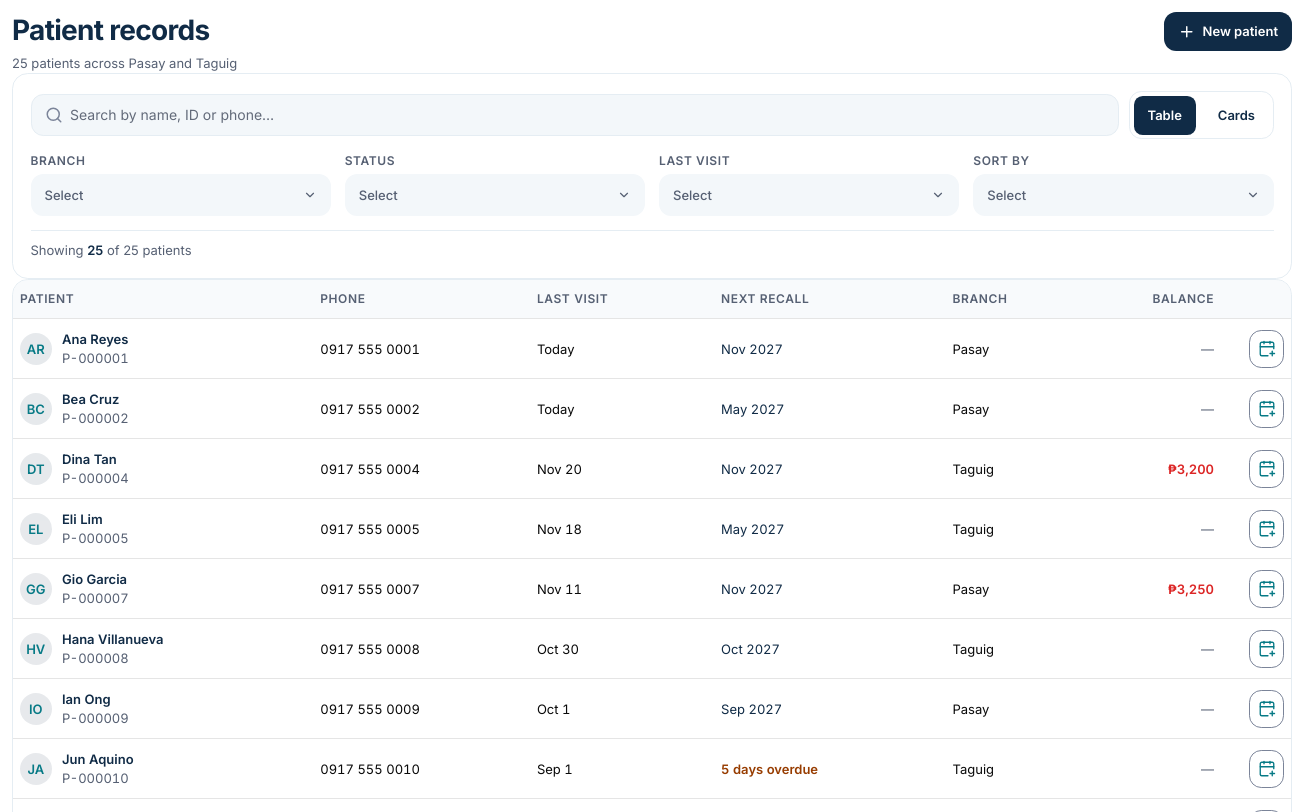
Test case: Patient records header and filter bar › Status can combine Overdue recall, Due today and Has balance (any of them)
Click the button with aria-label "Status".
click(378, 195)  # box [345,174,645,216]
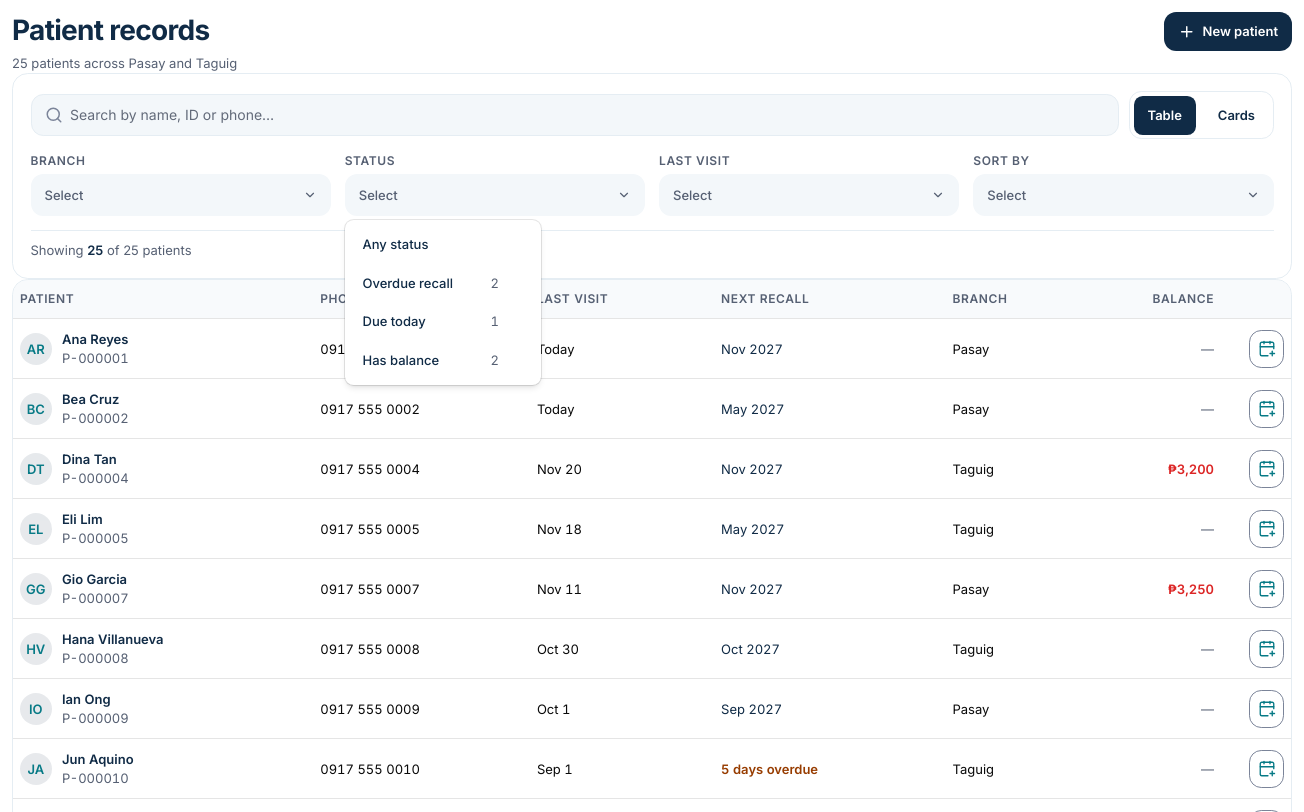
Click the menu item "Overdue recall 2".
click(431, 283)  # box [362,275,499,291]
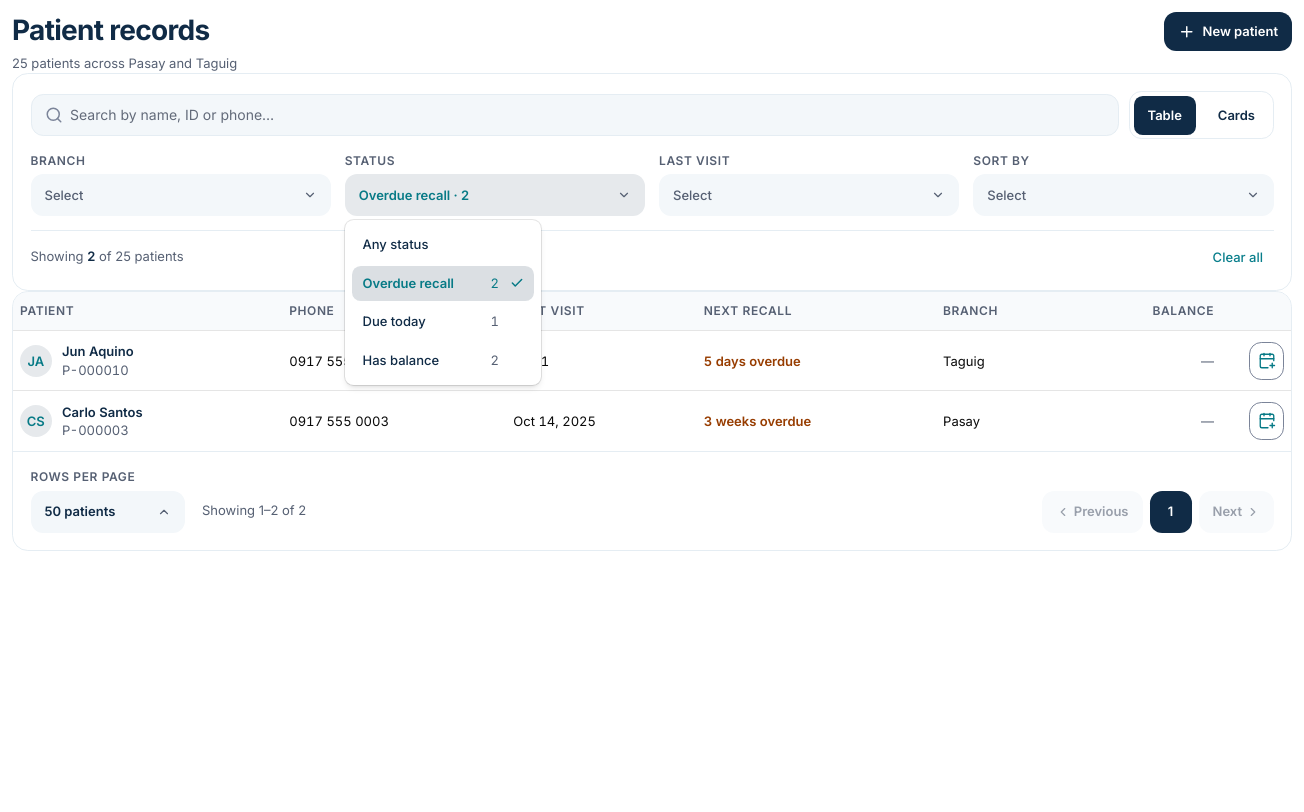
Expected: the button "Overdue recall · 2" is shown, [345,174,645,216]
Click the menu item "Has balance 2".
click(431, 360)  # box [362,352,499,368]
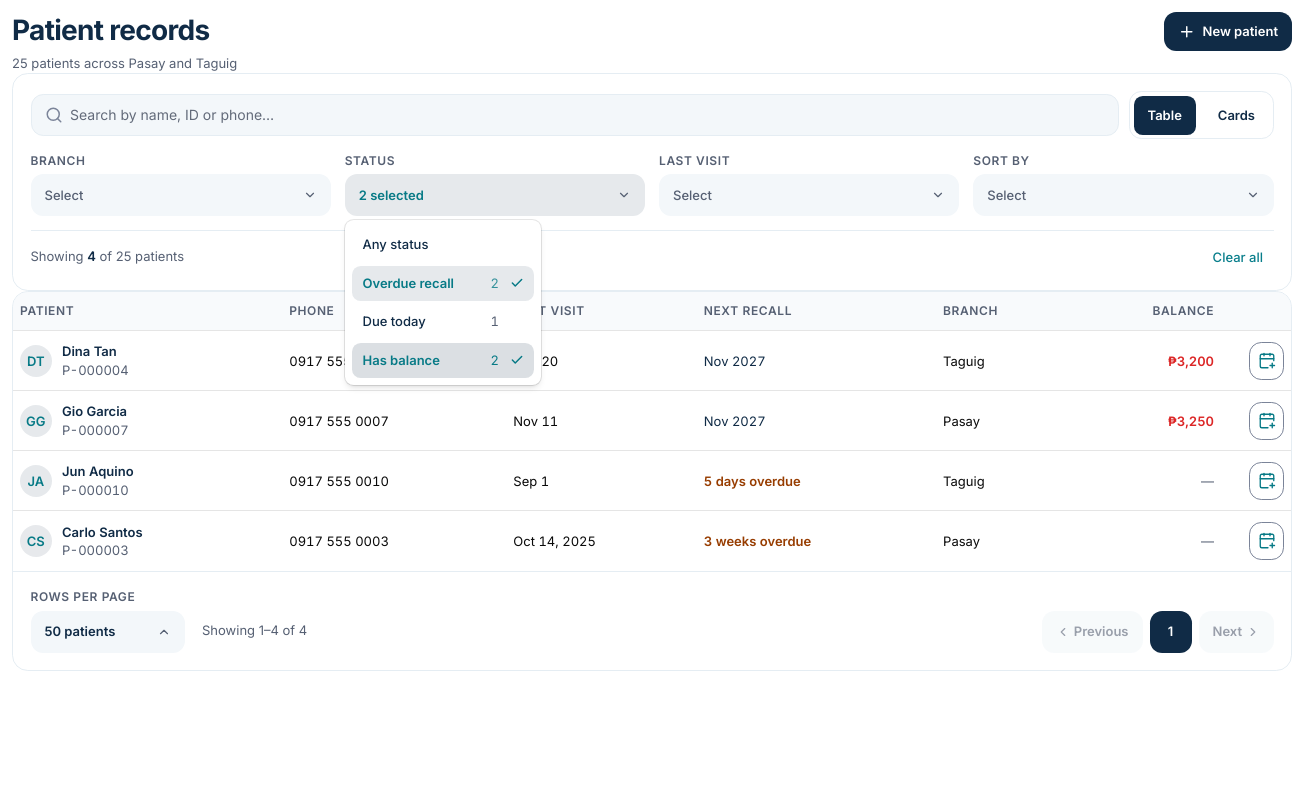
Expected: the button "2 selected" is shown, [345,174,645,216]
Click the menu item "Due today 1".
click(394, 321)  # box [362,313,499,329]
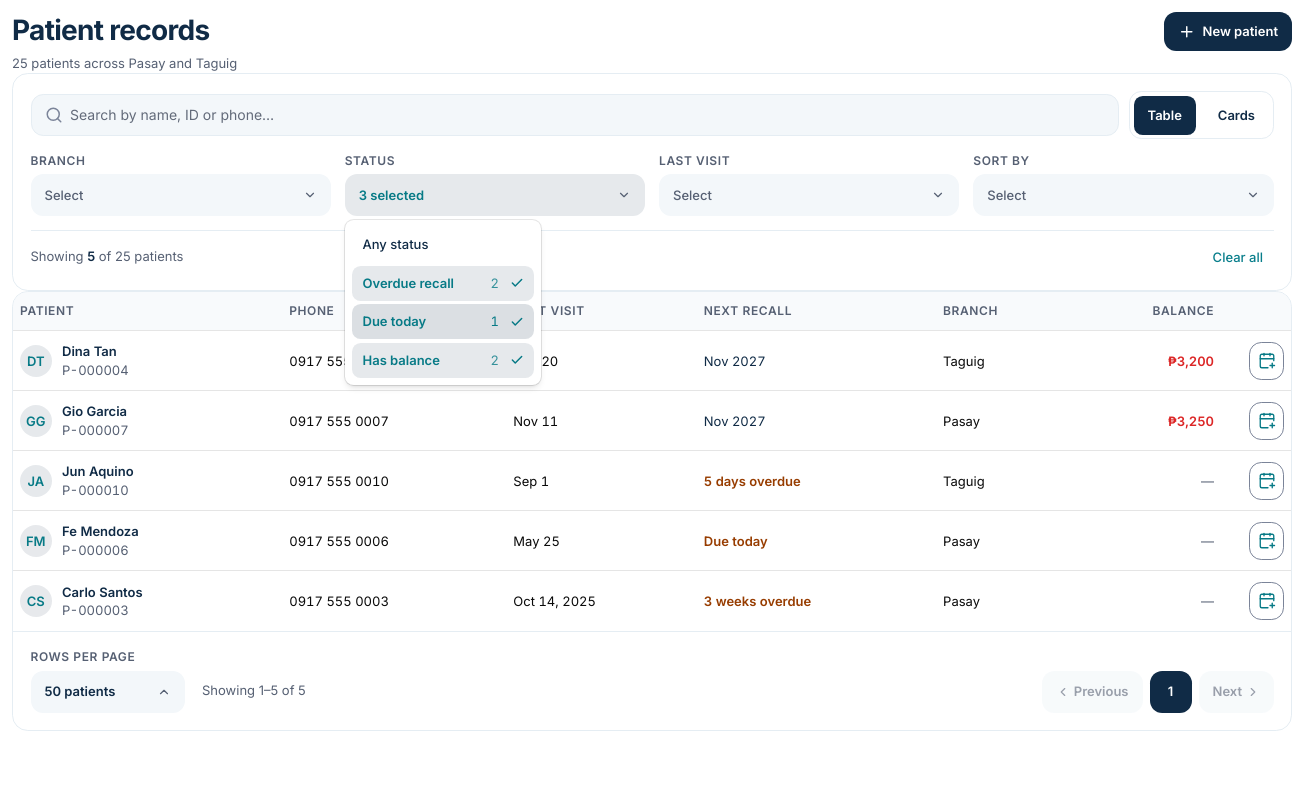
Expected: the text "Showing 1–5 of 5" is shown, [202,682,306,698]
